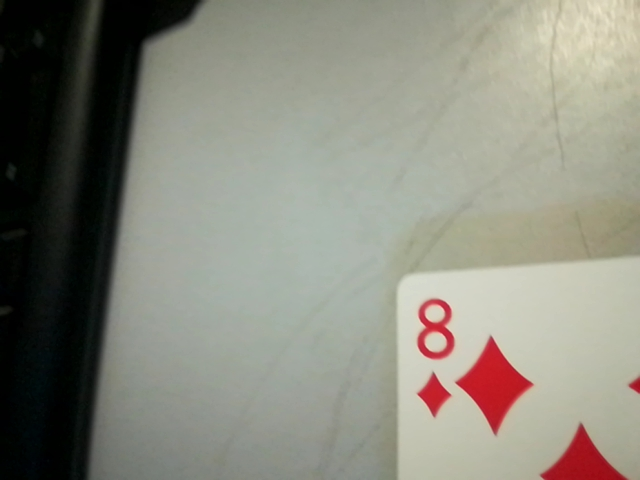fk 8: (402, 289, 464, 421)
